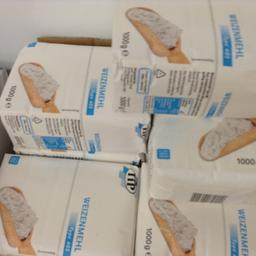flour: (0, 41, 149, 160), (110, 0, 254, 117), (0, 151, 139, 255), (145, 113, 255, 201)
